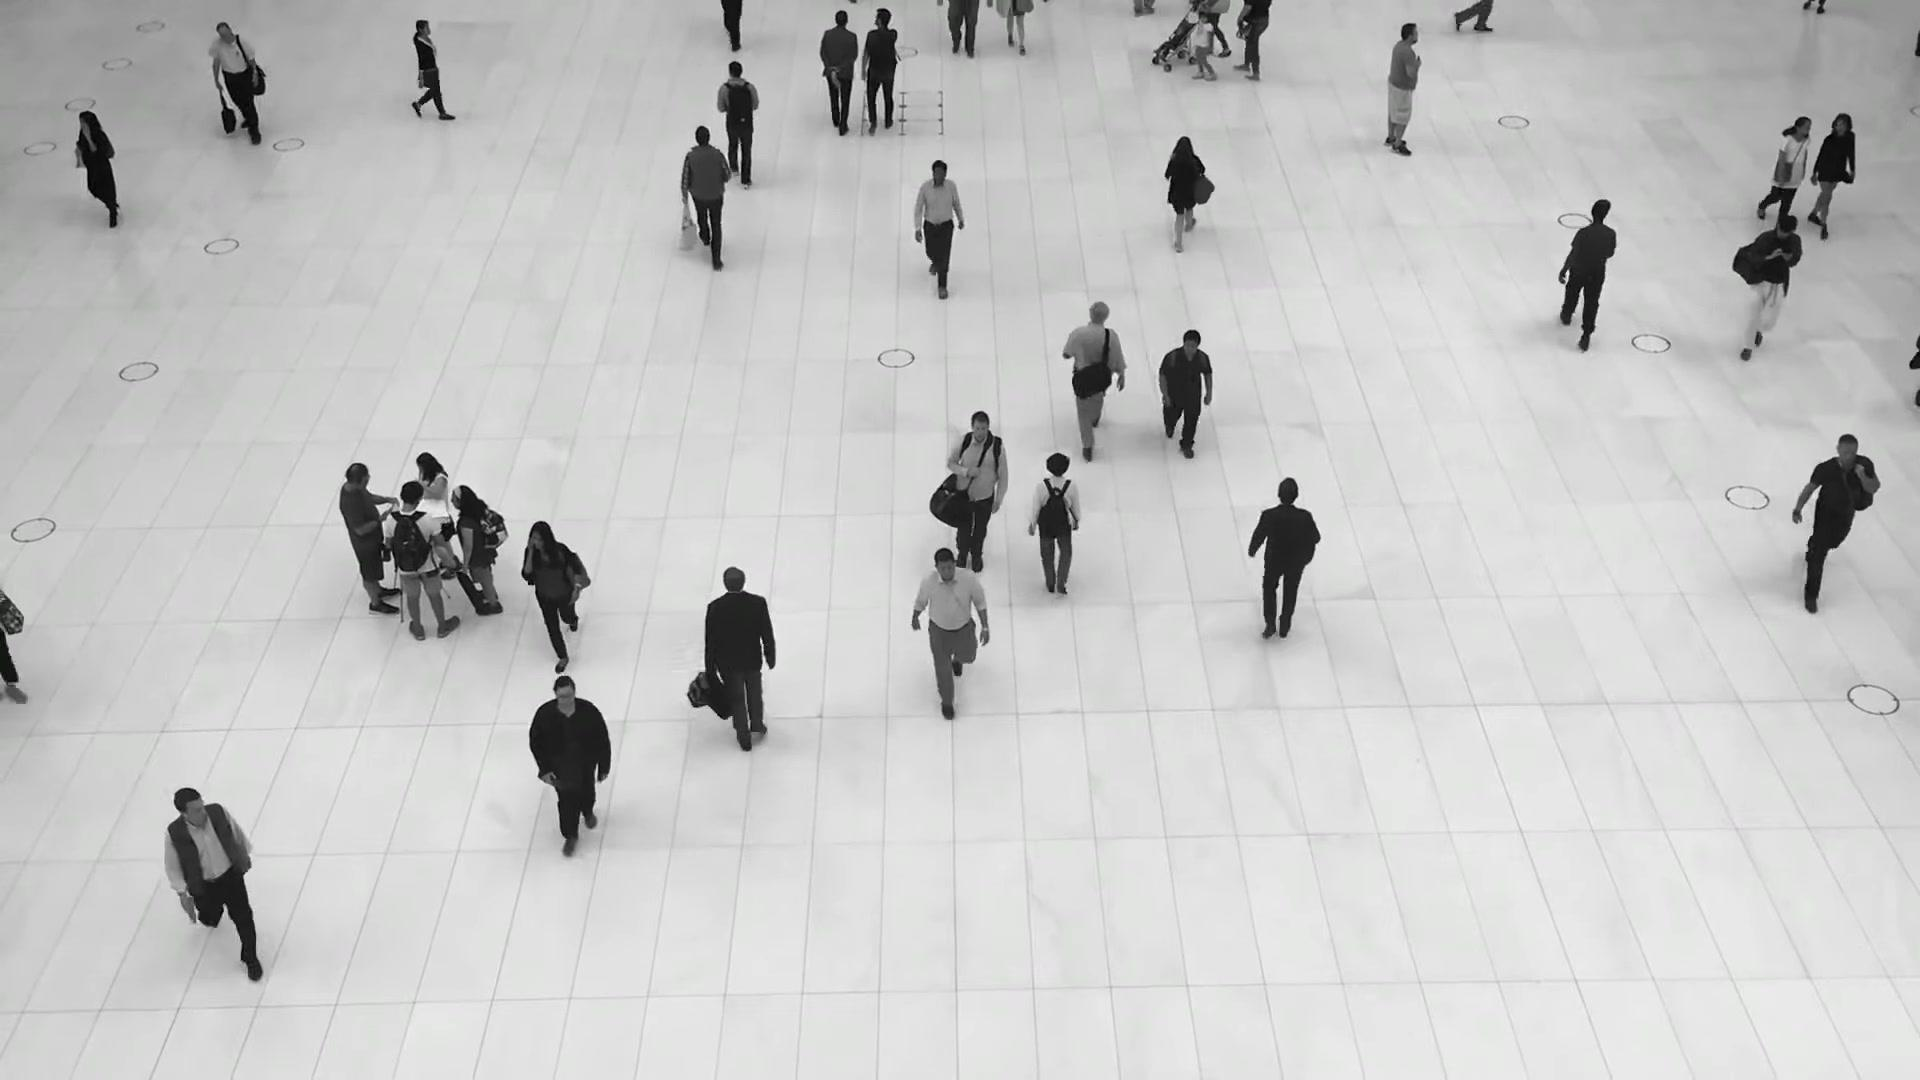person: (163, 789, 265, 988), (1793, 435, 1881, 617), (527, 676, 612, 850), (911, 549, 990, 725), (704, 566, 776, 750), (1247, 478, 1321, 643), (383, 481, 458, 641), (521, 521, 592, 676), (1732, 216, 1803, 364), (946, 412, 1008, 575), (1061, 300, 1125, 459), (338, 463, 400, 615), (1558, 198, 1617, 351), (1027, 453, 1081, 600), (680, 124, 732, 269), (1157, 331, 1212, 462), (914, 160, 964, 303), (450, 484, 503, 616), (207, 22, 261, 146), (1163, 135, 1214, 252), (1808, 113, 1856, 239), (715, 60, 759, 189), (1757, 116, 1811, 221), (75, 109, 121, 229), (415, 452, 459, 579), (408, 19, 460, 121), (1383, 22, 1421, 156), (816, 12, 855, 141), (858, 11, 896, 137), (1190, 13, 1216, 82)
